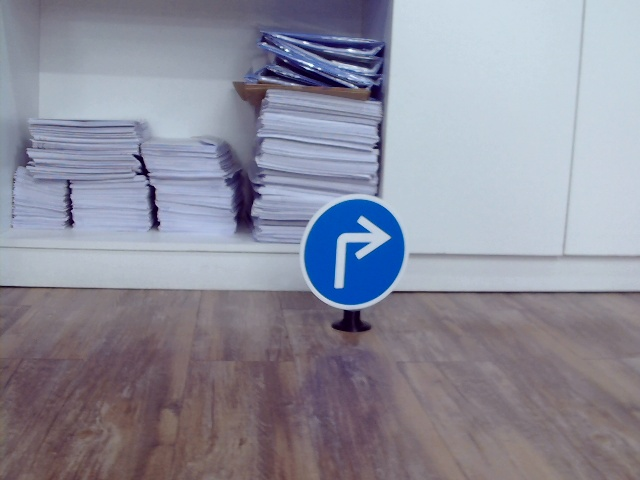turn_right: (328, 215, 387, 291)
